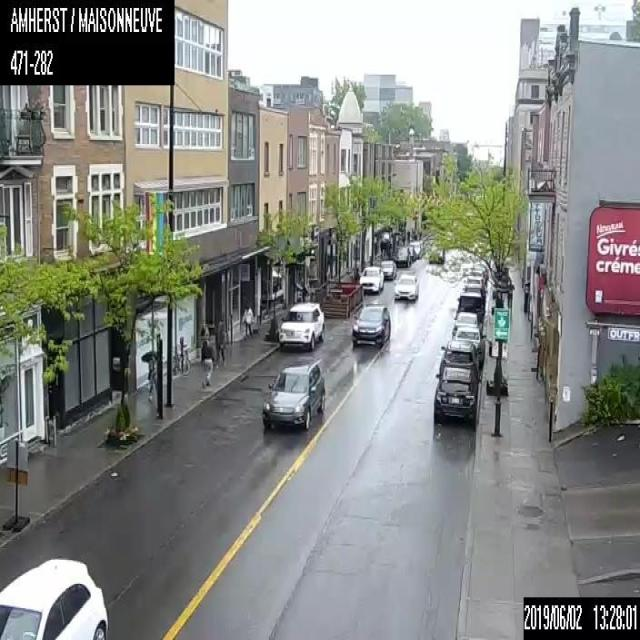pedestrian: (200, 337, 214, 387), (214, 318, 227, 368), (146, 355, 156, 397), (241, 304, 253, 337)
vehicle: (0, 554, 109, 638), (261, 358, 325, 430), (433, 365, 481, 423), (274, 298, 326, 351), (350, 302, 391, 349), (439, 339, 479, 377), (453, 326, 485, 362), (456, 290, 485, 320), (452, 311, 482, 337), (393, 274, 418, 301), (358, 266, 383, 292), (462, 285, 487, 299), (377, 260, 395, 279), (463, 275, 484, 288), (394, 250, 410, 266), (407, 241, 421, 258), (428, 248, 444, 262), (470, 269, 485, 282), (403, 245, 415, 260)
